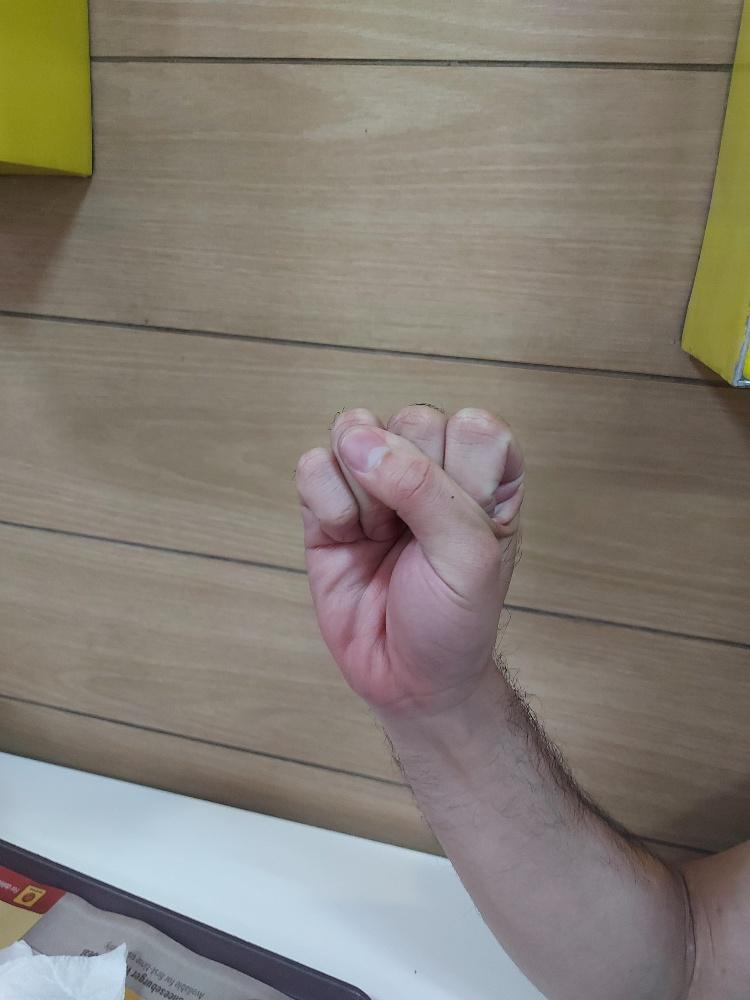s: (291, 397, 529, 712)
